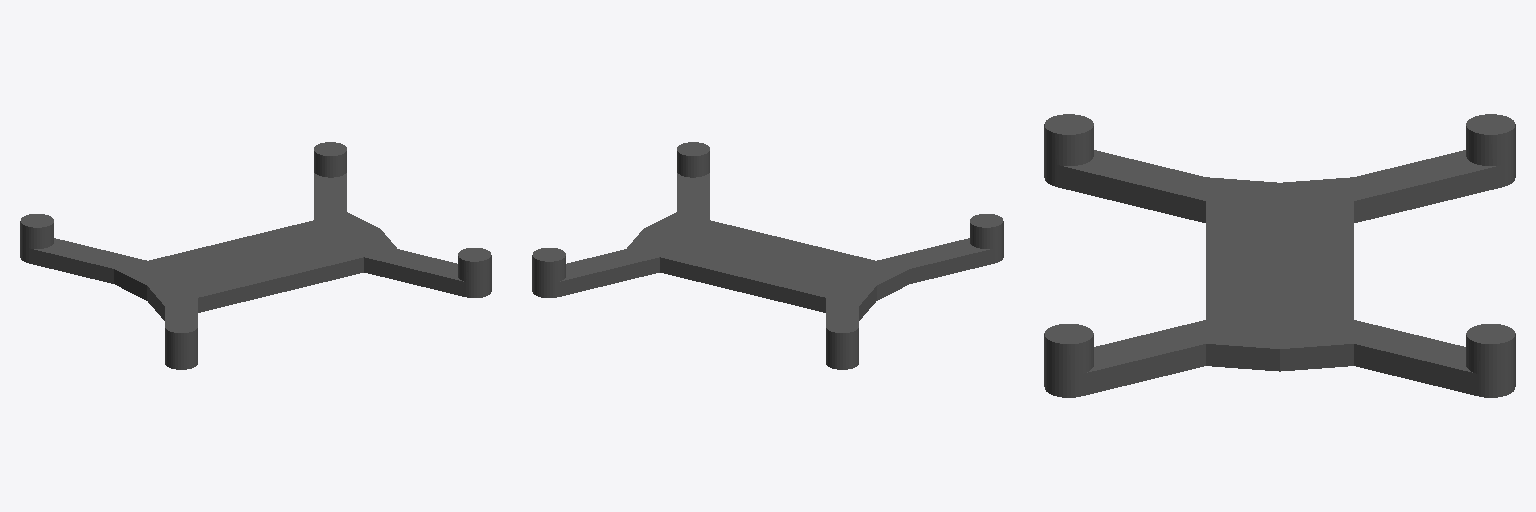
The robot description file, URDF, robot "quadcopter":
<?xml version="1.0"?>
<robot name="quadcopter">
  <link name="base_link">
    <!-- Visual representation using the DAE mesh file -->
    <visual>
      <origin xyz="-0.828 -0.717 -0.0375" rpy="0 0 0"/>
      <geometry>
        <mesh filename="package://quadcopter_control/meshes/quad_cad.dae" scale="0.3 0.3 0.3"/>
      </geometry>
      <material name="">
        <color rgba="0.4 0.4 0.4 1"/>
      </material>
    </visual>

    <!-- Collision representation using the DAE mesh file -->
    <collision>
      <origin xyz="0 0 0" rpy="0 0 0"/>
      <geometry>
        <mesh filename="package://quadcopter_control/meshes/quad_cad.dae" scale="0.3 0.3 0.3"/>
      </geometry>
    </collision>
  </link>
</robot>

--- What the picture shows (computed from the rendered views, not written in the file) ---
3 views of the same robot in one strip: view 1: azimuth 30°, elevation 25°; view 2: azimuth 150°, elevation 25°; view 3: azimuth 270°, elevation 25° (orthographic).
Robot: quadcopter — 1 links, 0 joints (none); root link base_link; default pose: every joint at zero.
Links seen in each view (by area): view 1: base_link; view 2: base_link; view 3: base_link.
Link boxes in pixels (x1,y1,x2,y2): base_link: [20, 142, 491, 369]; base_link: [532, 142, 1003, 369]; base_link: [1044, 114, 1515, 397].
Size in the robot's own frame: 1.66 by 1.43 by 0.18 metres.
Meshes: 1 distinct files referenced, 1 mesh visuals loaded (1 Collada DAE).